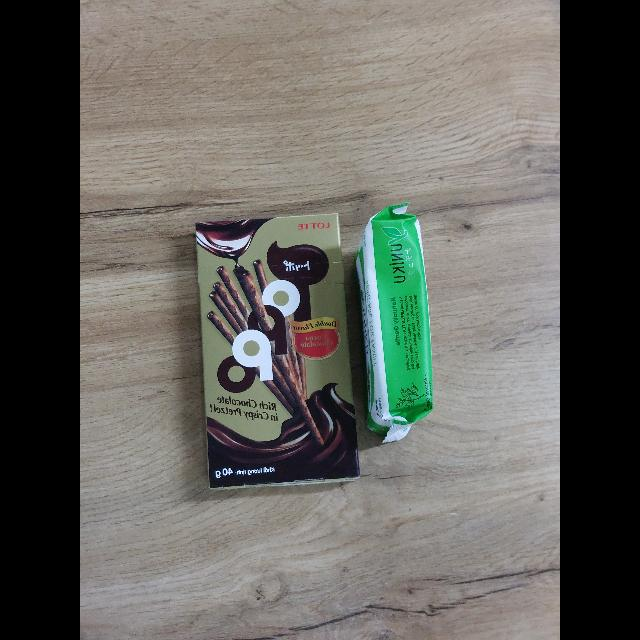banh_toppo_socola: (198, 211, 361, 488)
khan_giay: (357, 203, 434, 442)
